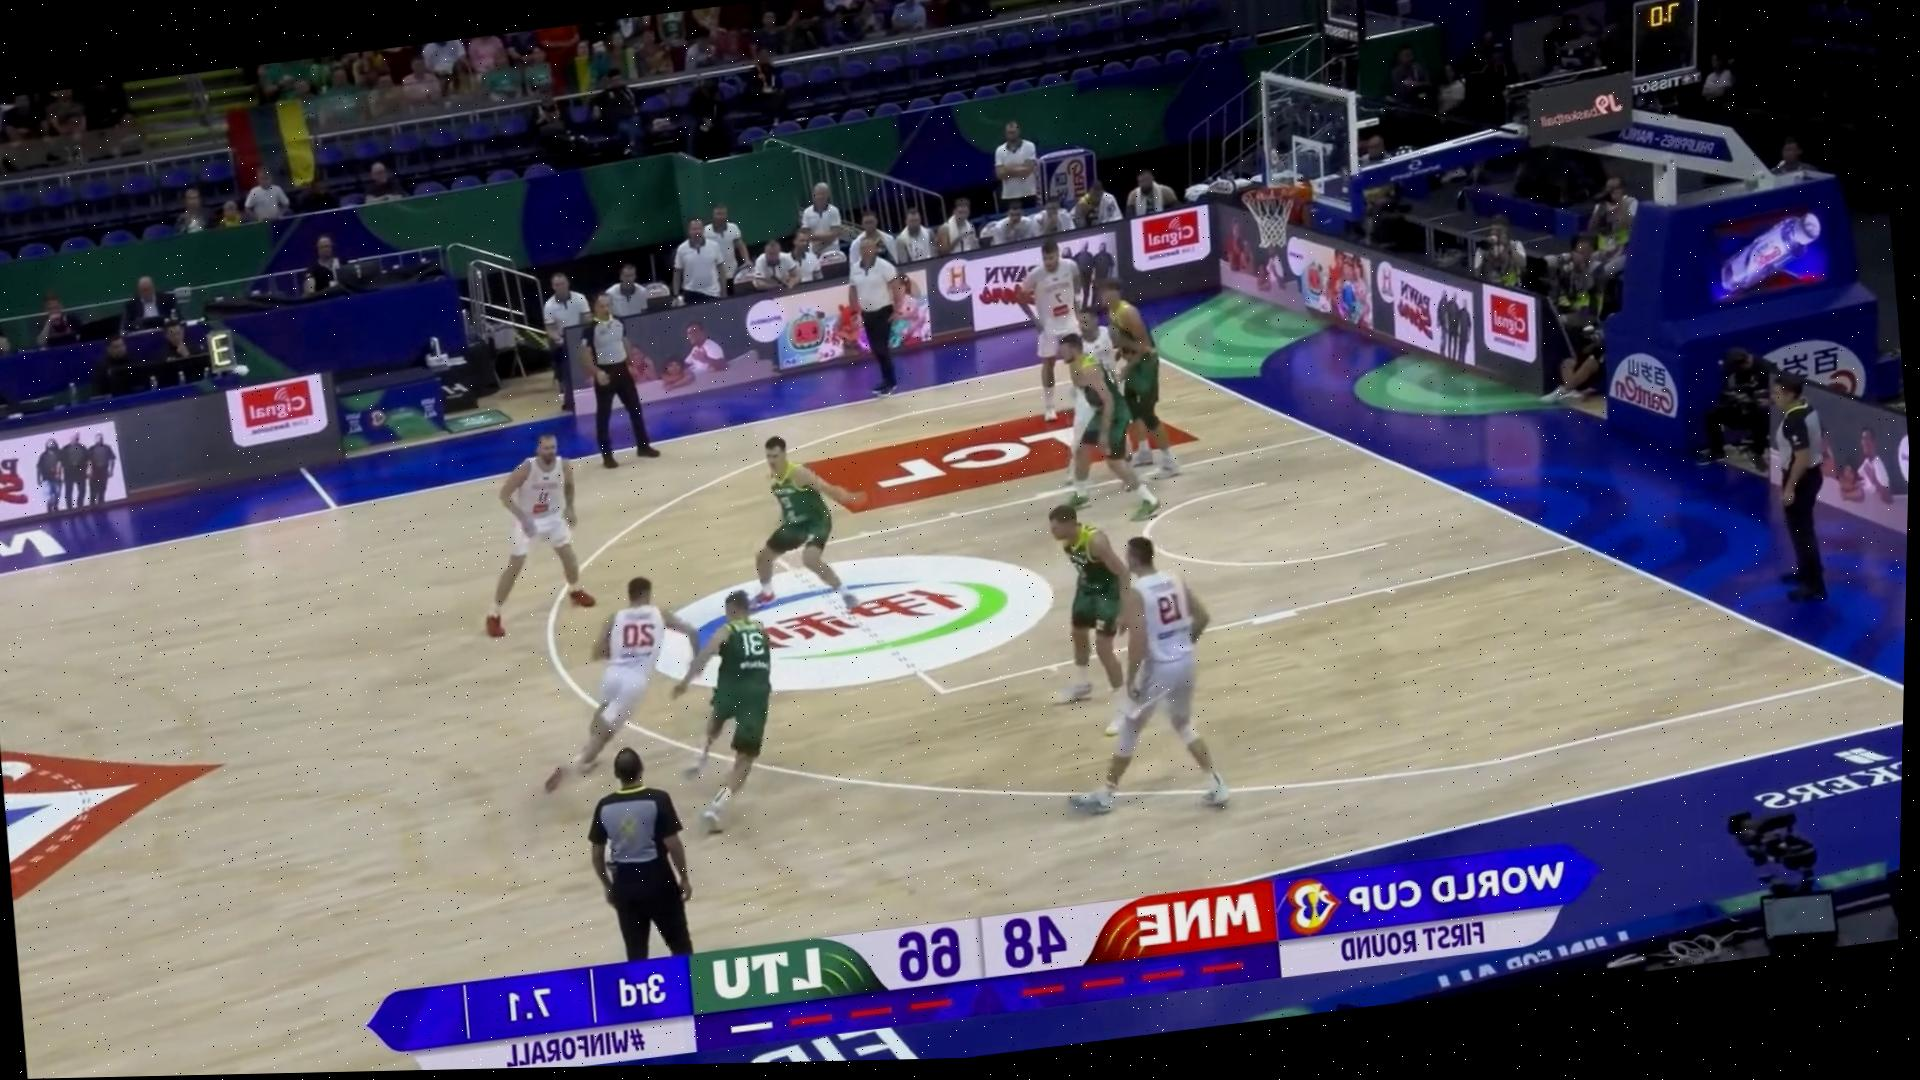no_foul: (485, 539, 836, 830)
